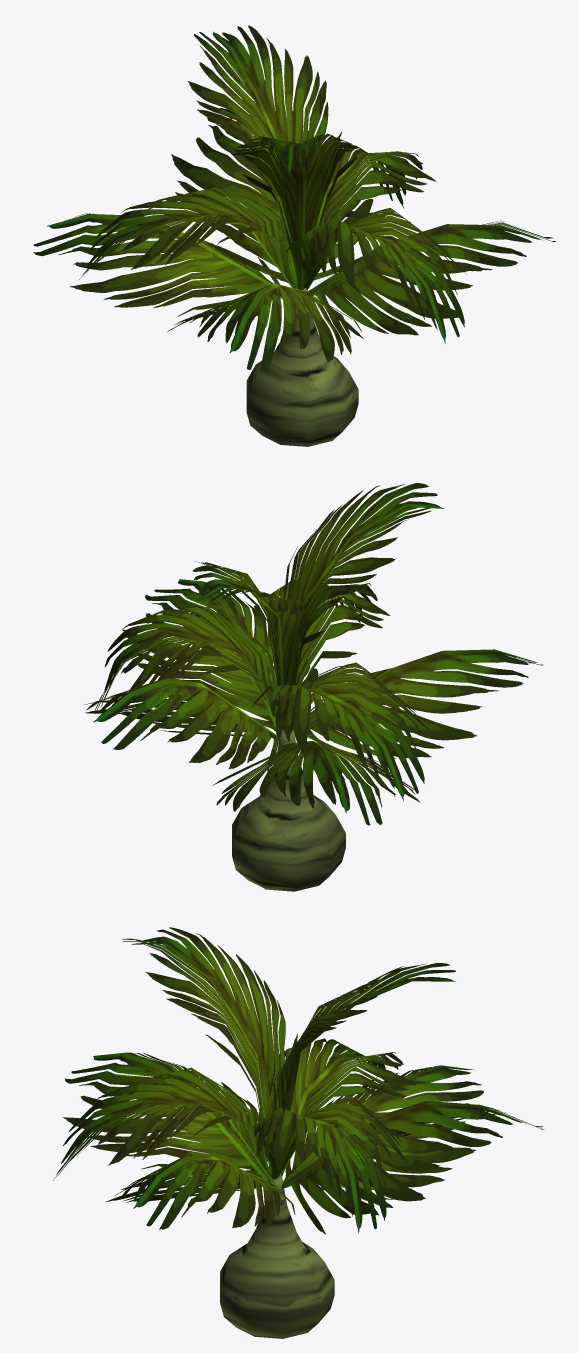
Rendered from strange-tree-baby.glb.
3 views of the same model, one above another, from view 1: azimuth 30°, elevation 25°; view 2: azimuth 150°, elevation 25°; view 3: azimuth 270°, elevation 25° (orthographic). The views are drawn at different scales.
Bounding box in the file's own units: 1.29 × 0.9568 × 1.33.
1 material, 1 textured.
